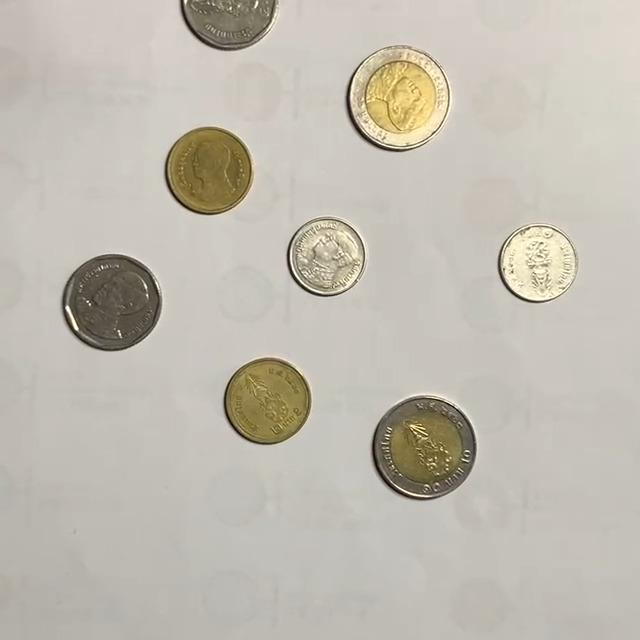1-baht: (498, 222, 581, 303), (288, 217, 368, 296)
10-baht: (372, 396, 478, 499), (348, 45, 451, 149)
2-baht: (165, 126, 254, 214), (225, 358, 313, 444)
5-baht: (63, 253, 164, 351), (180, 0, 280, 50)
